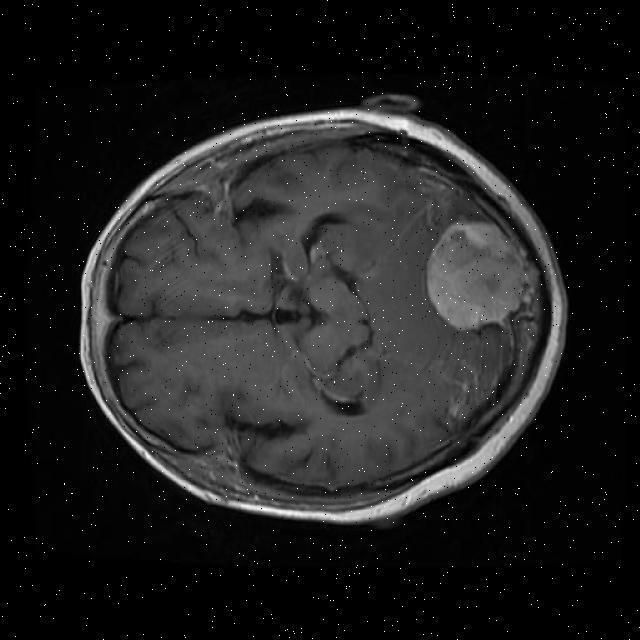Meningioma: (427, 222, 530, 330)
